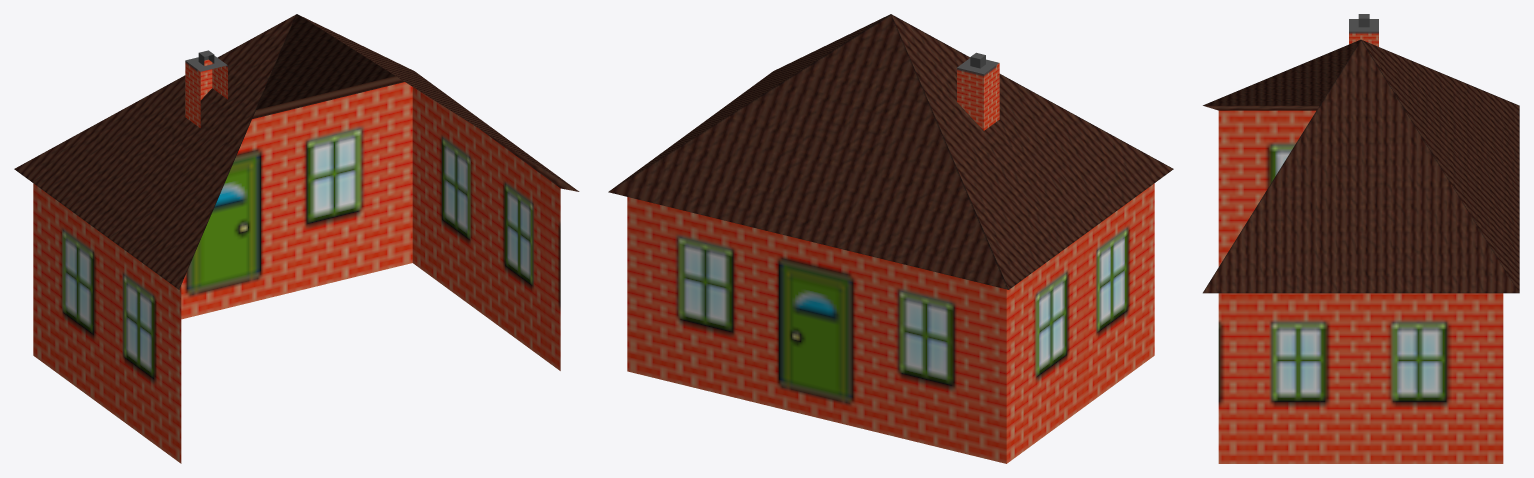
The model's file is House_07.FBX.
3 views of the same model, side by side, from view 1: azimuth 30°, elevation 25°; view 2: azimuth 150°, elevation 25°; view 3: azimuth 270°, elevation 25° (orthographic). The views are drawn at different scales.
Visible parts, largest first — view 1: House_02, Chimneys_02; view 2: House_02, Chimneys_02; view 3: House_02, Chimneys_02.
Boxes of the visible parts, x1,y1,x2,y2 form: House_02: (14, 14, 579, 463); Chimneys_02: (185, 50, 227, 127); House_02: (608, 14, 1173, 463); Chimneys_02: (957, 52, 999, 130); House_02: (1203, 39, 1519, 463); Chimneys_02: (1349, 14, 1378, 46).
Bounding box in the file's own units: 61.35 × 51.12 × 43.78.
